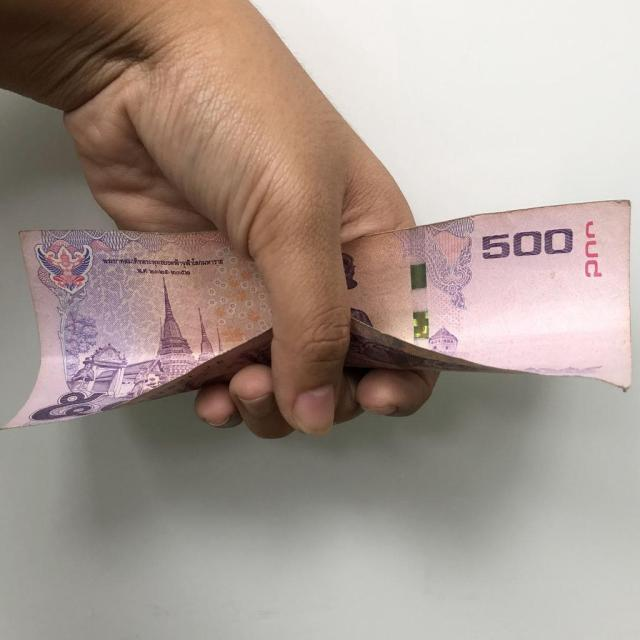THAI500: (341, 201, 631, 390), (3, 230, 272, 429)
